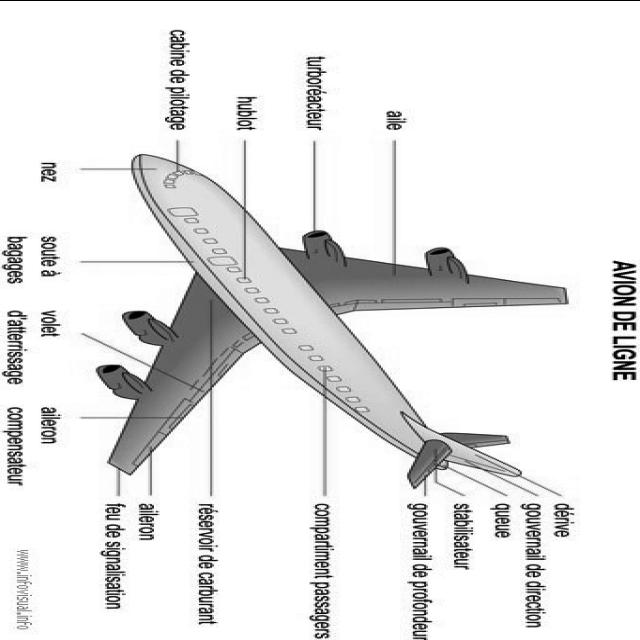aircraft: (42, 54, 619, 566)
